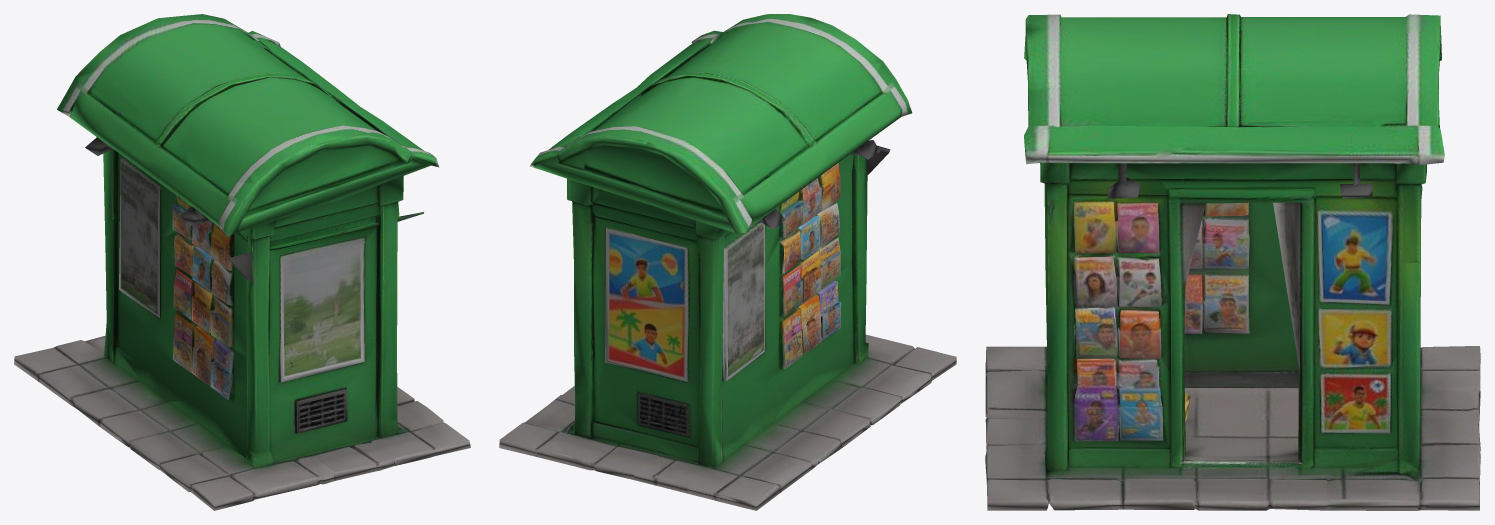
The model's file is CenarioBanca.glb.
3 views of the same model, side by side, from view 1: azimuth 30°, elevation 25°; view 2: azimuth 150°, elevation 25°; view 3: azimuth 270°, elevation 25° (orthographic). The views are drawn at different scales.
Visible parts, largest first — view 1: tripo_node_15760a5f-857b-48ec-a24f-c7e6839abf60; view 2: tripo_node_15760a5f-857b-48ec-a24f-c7e6839abf60; view 3: tripo_node_15760a5f-857b-48ec-a24f-c7e6839abf60.
Part boxes in pixels (left/top/right/bottom): tripo_node_15760a5f-857b-48ec-a24f-c7e6839abf60: left=14, top=14, right=470, bottom=510; tripo_node_15760a5f-857b-48ec-a24f-c7e6839abf60: left=499, top=14, right=956, bottom=510; tripo_node_15760a5f-857b-48ec-a24f-c7e6839abf60: left=985, top=14, right=1480, bottom=510.
Bounding box in the file's own units: 0.8257 × 1 × 1.11.
Materials: 1 (1 with a texture image).
